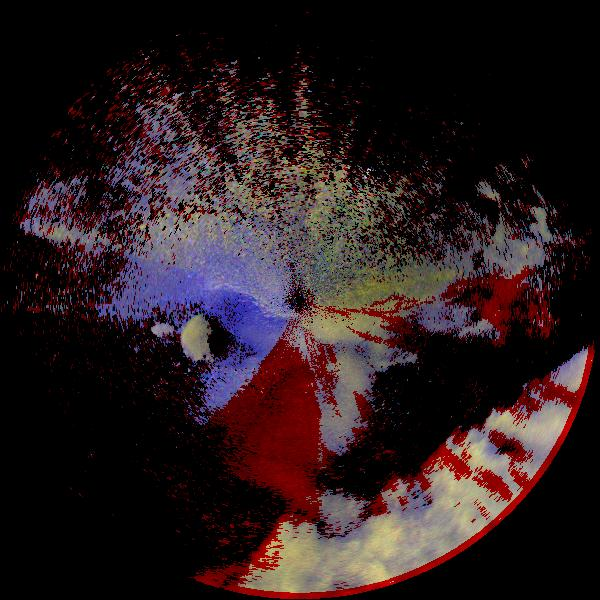roost: (87, 286, 249, 448)
